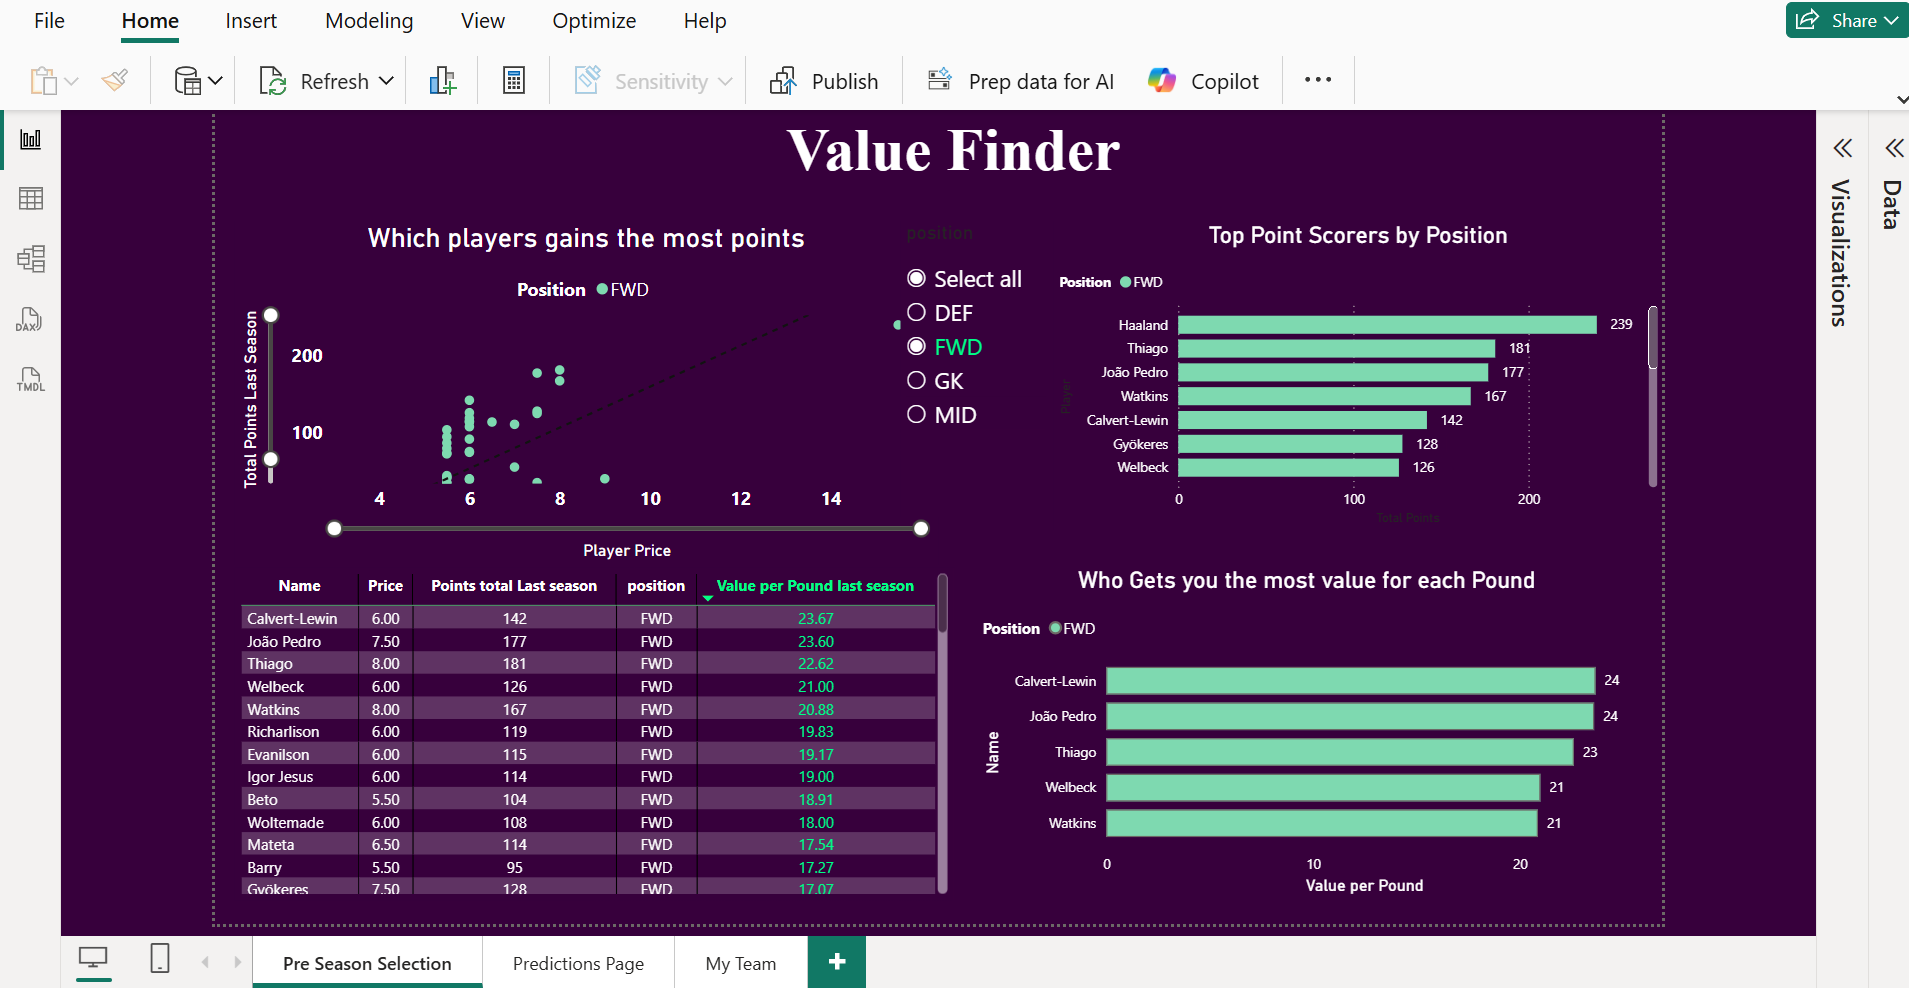

Layout of this report page (visuals, bound fields, positions):
{"tool":"powerbi","page":{"name":"Pre Season Selection","canvas":[1280,720],"ordinal":0},"visuals":[{"type":"textbox","box":[246.5,0,812.7,129],"z":0},{"type":"scatterChart","title":"Which players gains the most points","fields":{"Series":["value_table.position"],"Y":["Sum(value_table.points_last_season)"],"X":["Sum(value_table.price_now)"],"Category":["value_table.web_name","value_table.position"]},"box":[17.3,98.2,622,304.3],"z":1000},{"type":"tableEx","fields":{"Values":["value_table.web_name","Sum(value_table.price_now)","Sum(value_table.points_last_season)","value_table.position","Sum(value_table.value_last_per_m)"]},"box":[17.5,404.8,635.7,293.8],"z":2000},{"type":"listSlicer","fields":{"Values":["value_table.position"]},"box":[606.6,98.2,134.8,261.9],"z":3000},{"type":"clusteredBarChart","title":"Who Gets you the most value for each Pound","fields":{"Category":["value_table.web_name"],"Y":["Sum(value_table.value_last_per_m)"],"Series":["value_table.position"]},"box":[673.7,403.4,583.1,295.2],"z":4000},{"type":"clusteredBarChart","title":"Top Point Scorers by Position","fields":{"Category":["value_table.web_name"],"Y":["Sum(value_table.points_last_season)"],"Series":["value_table.position"]},"box":[741.4,98.2,539.2,273.5],"z":5000}]}

Visuals, with their boxes on the page's 1280x720 design canvas (x1, y1, x2, y2). These are canvas units, not pixel positions in the 1909x988 screenshot, which may show the page scaled, cropped or inside an application window:
textbox: 246,0,1059,129
"Which players gains the most points" scatterChart: 17,98,639,402
tableEx - value_table.web_name x Sum(value_table.price_now): 18,405,653,699
listSlicer - value_table.position: 607,98,741,360
"Who Gets you the most value for each Pound" clusteredBarChart: 674,403,1257,699
"Top Point Scorers by Position" clusteredBarChart: 741,98,1281,372
